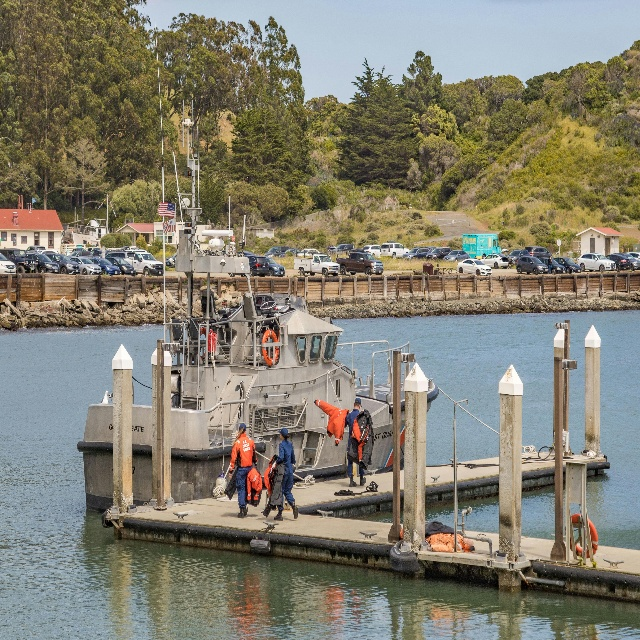Sin_guantes: (228, 473, 232, 479)
